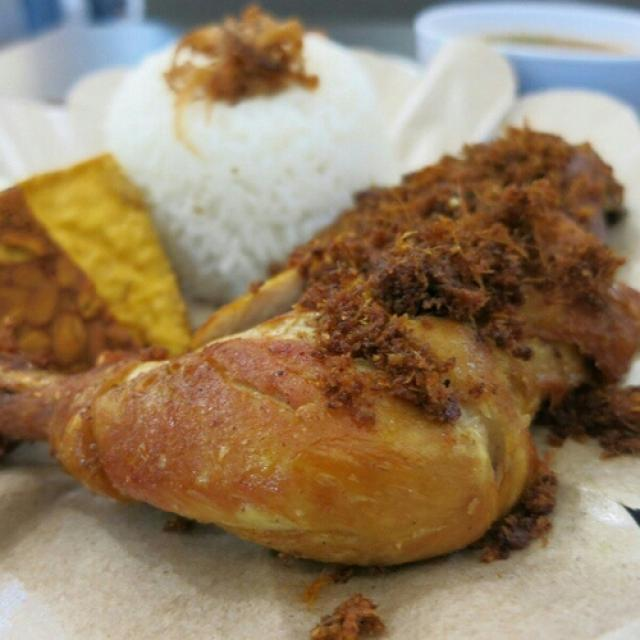米饭主食: (22, 13, 627, 586)
